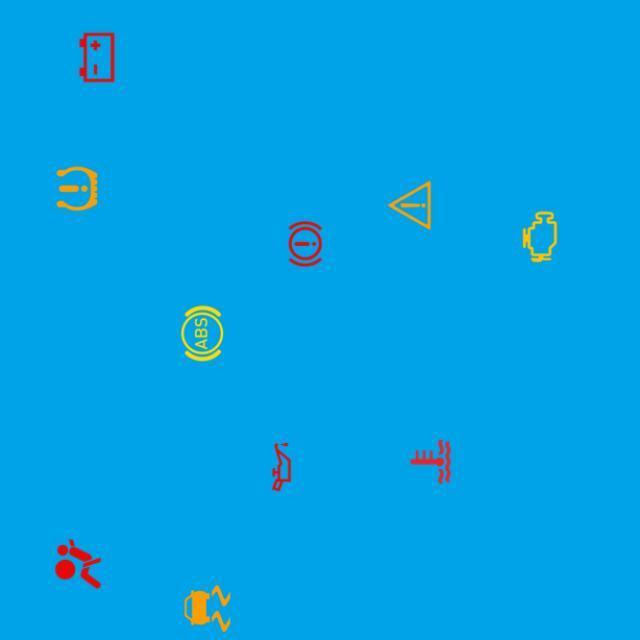High Engine Coolant Temperature: (400, 432, 460, 492)
